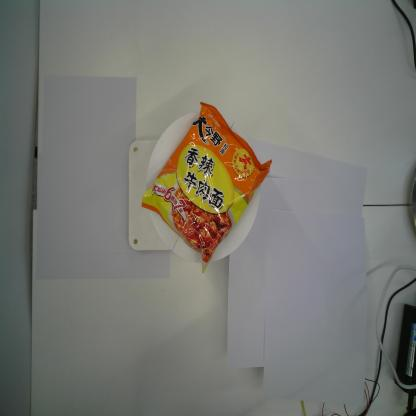Instant Noodles: (140, 100, 273, 276)
